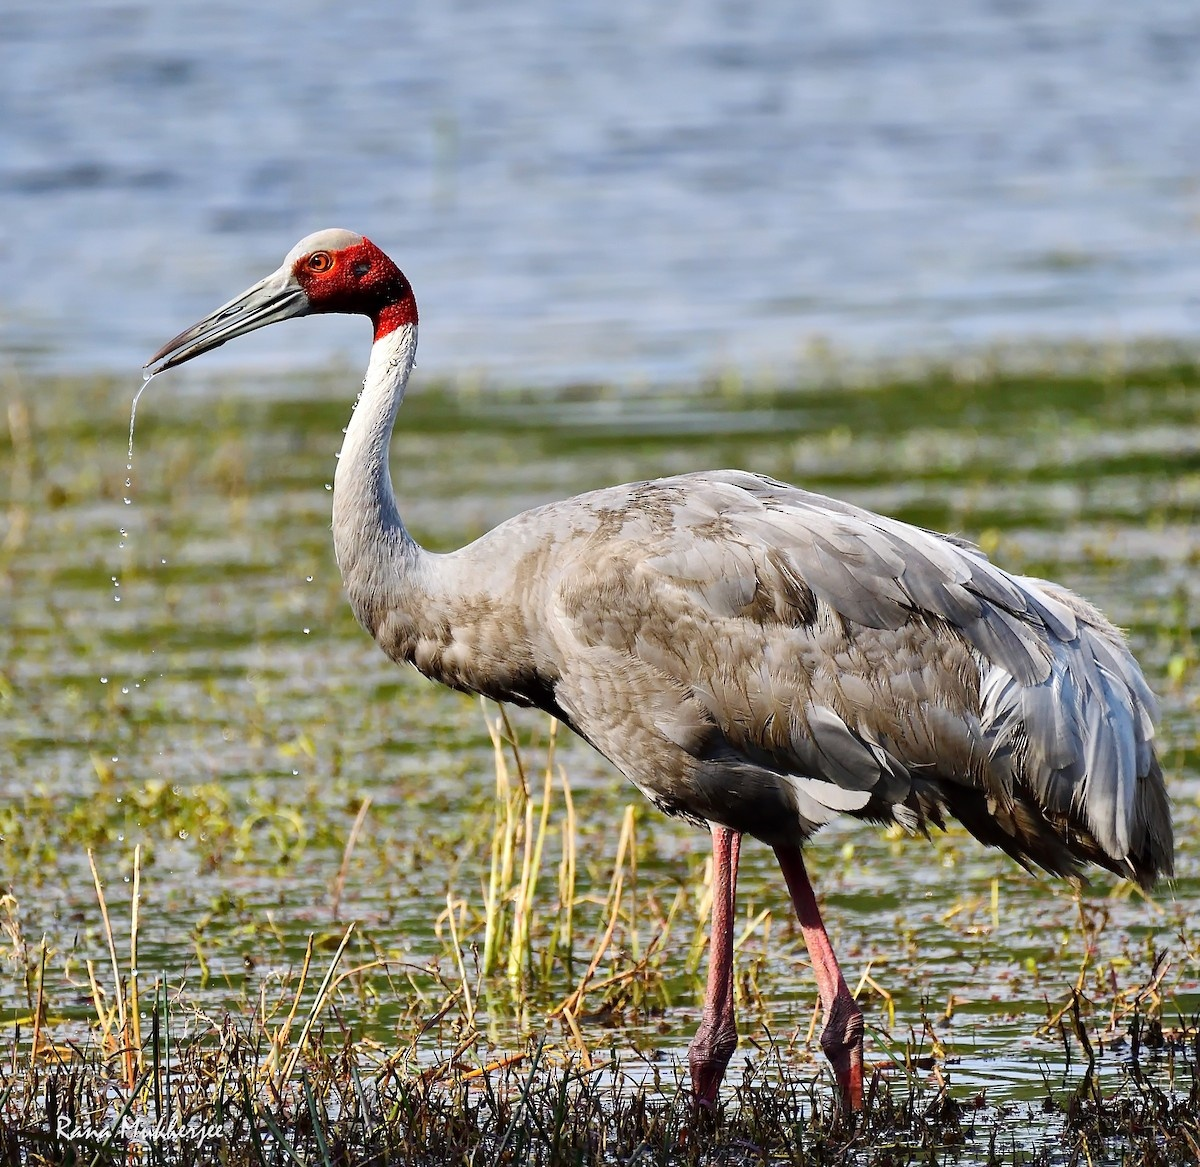crane: (136, 216, 1177, 1096)
